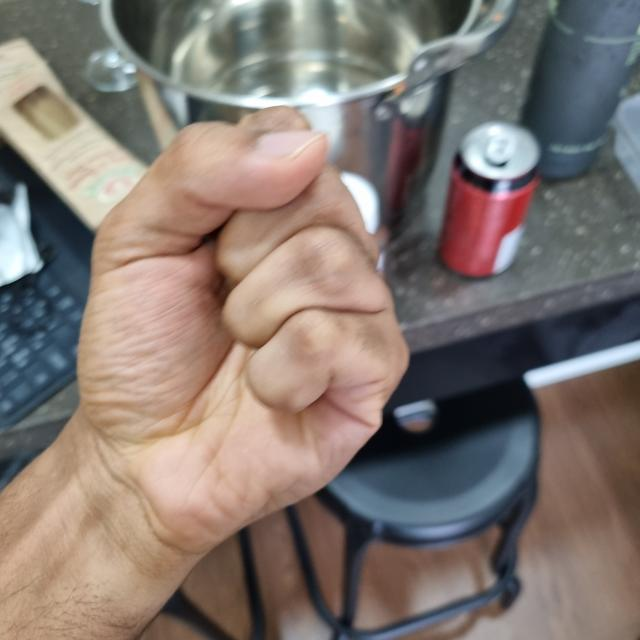Rock: (77, 106, 407, 552)
